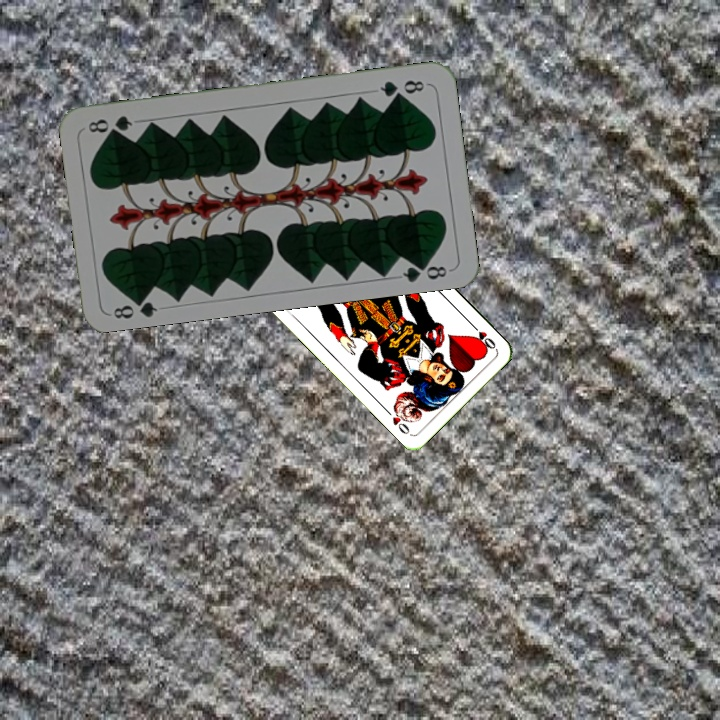G8: (109, 291, 160, 321), (376, 76, 427, 100)
HO: (467, 319, 498, 352)
